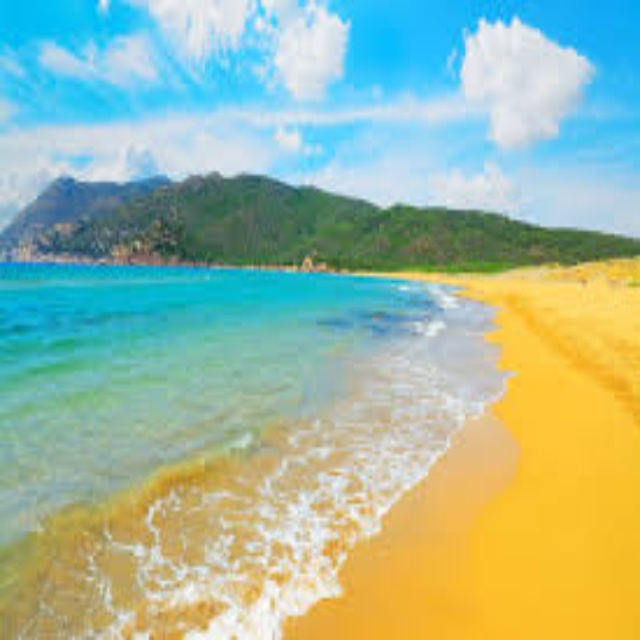linhaEspraiamento: (116, 296, 527, 639), (375, 277, 480, 297)
